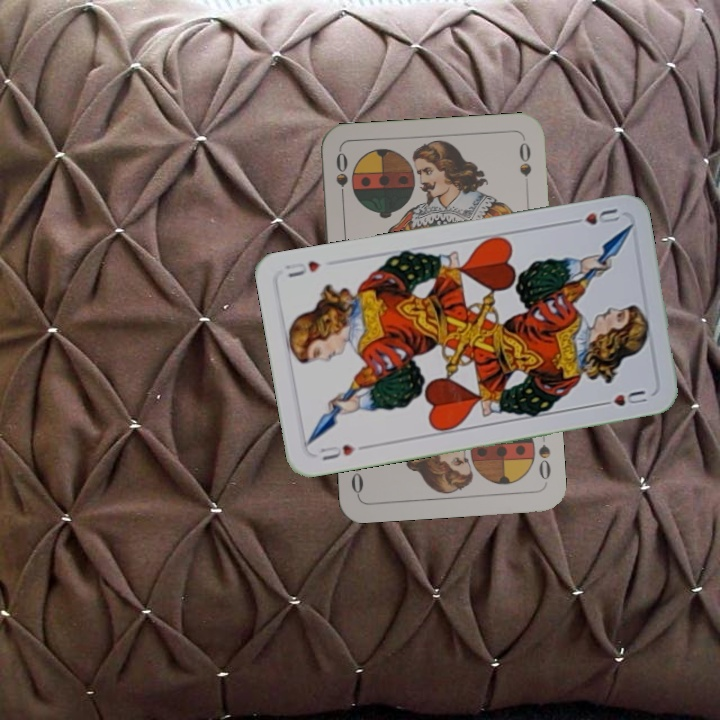HU: (565, 204, 622, 228), (315, 440, 358, 464)
SO: (332, 148, 351, 207), (534, 440, 553, 483)
